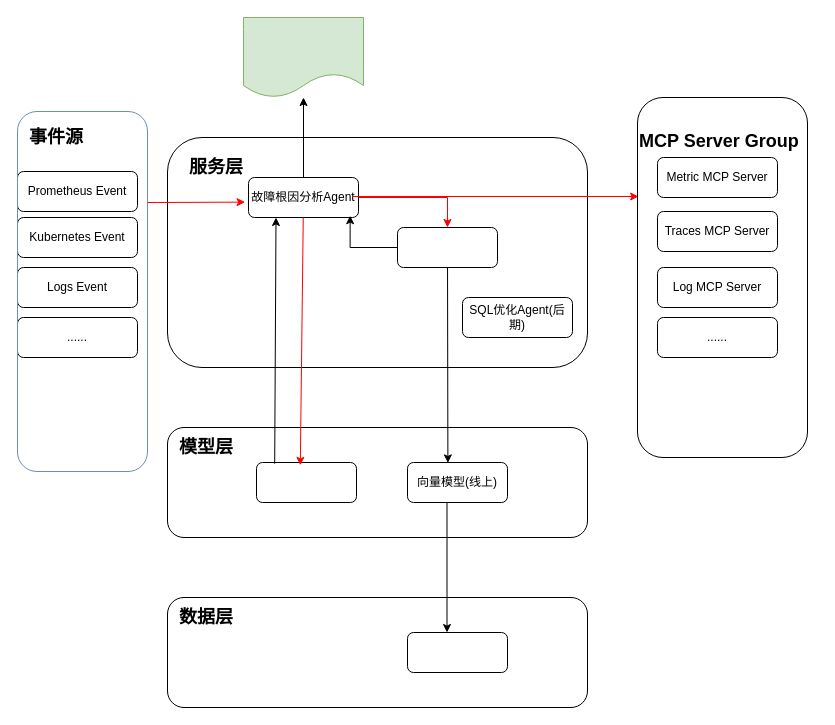
The diagram is 835 pixels wide and 725 high, and some of its shapes have lost their labels. The centre of each missing label's shape, as x and y in pixels:
LLM模型(线上千问): point 306,482
RAG(运维知识库): point 447,247
向量数据库: point 457,652
故障通知及分析报告: point 303,57
